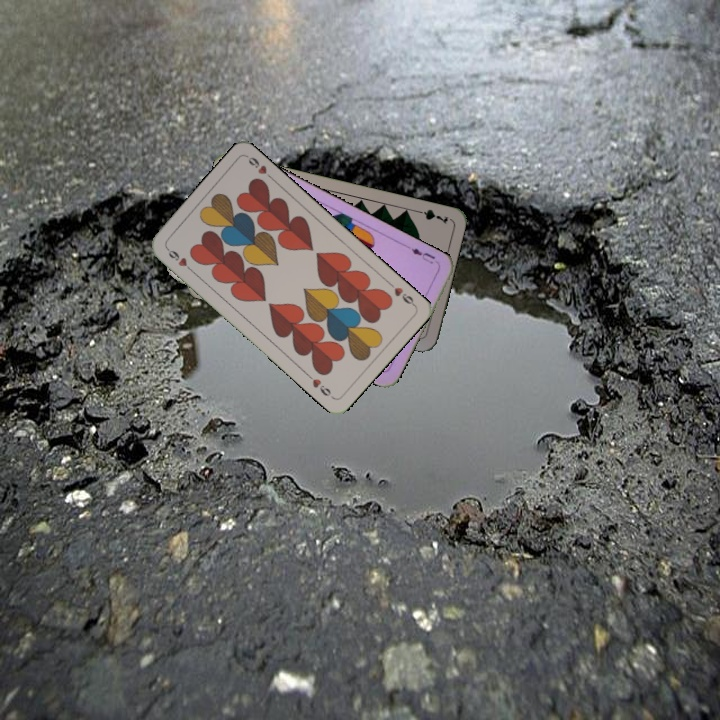EU: (407, 244, 441, 267)
G7: (411, 205, 451, 227)
H9: (384, 278, 418, 309), (162, 244, 196, 275)
